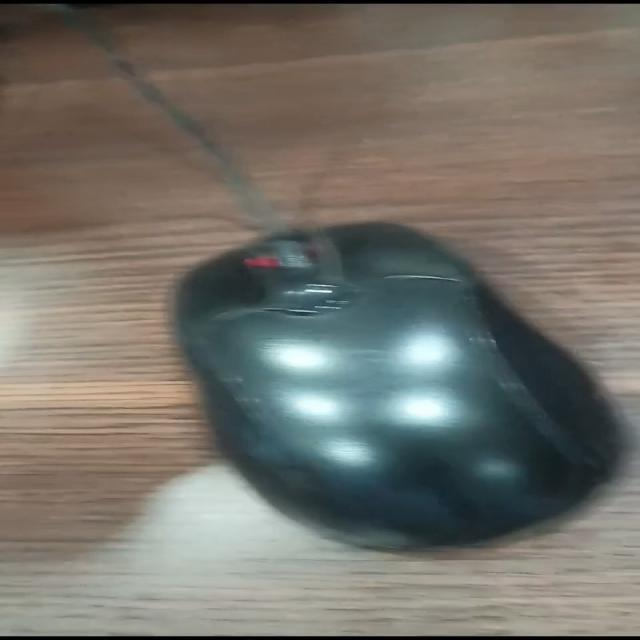mouse: (99, 196, 640, 580)
